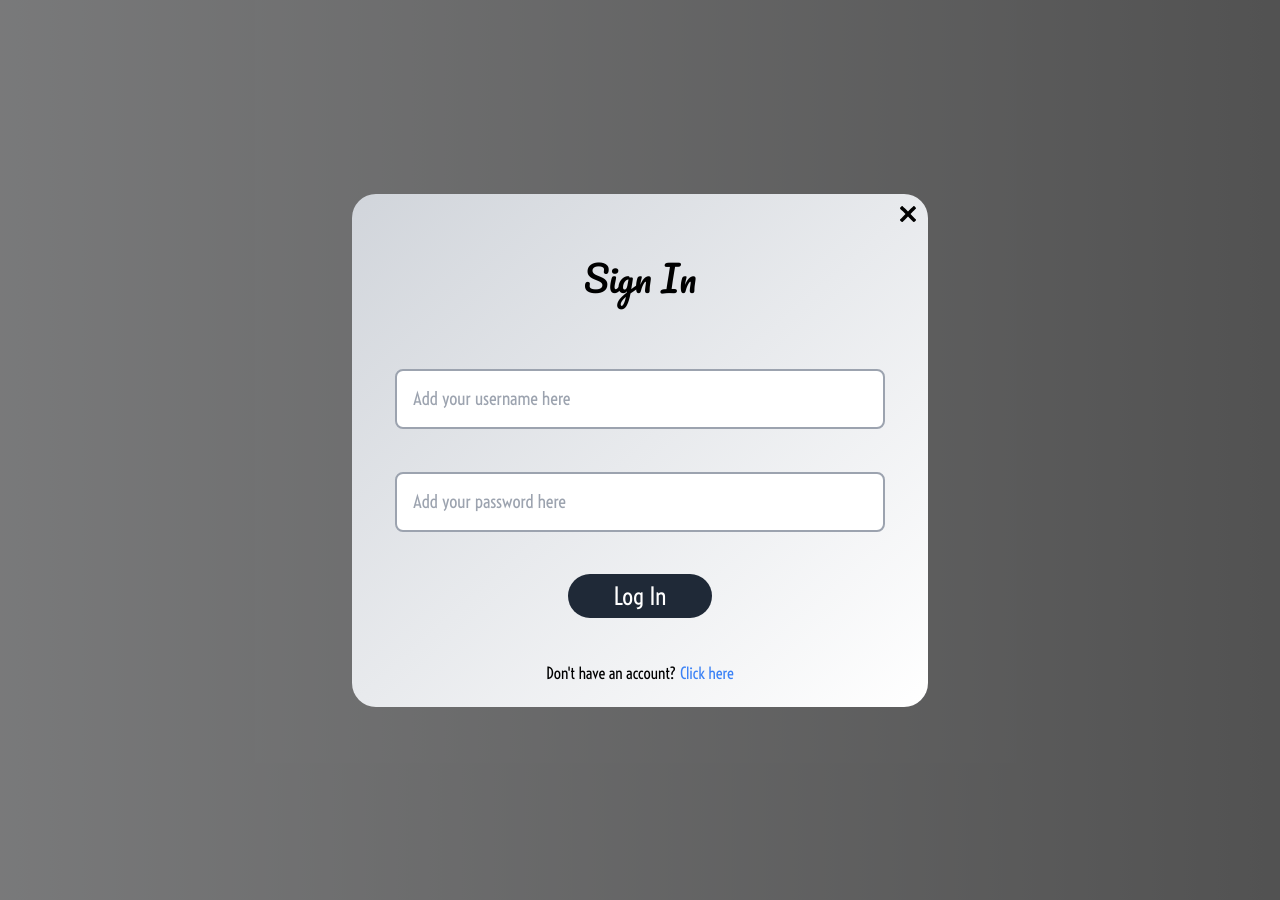
Test: SignIn › should render SignUp component
Click the text with test id "span". click: point(705, 673)
box: [676,663,734,683]
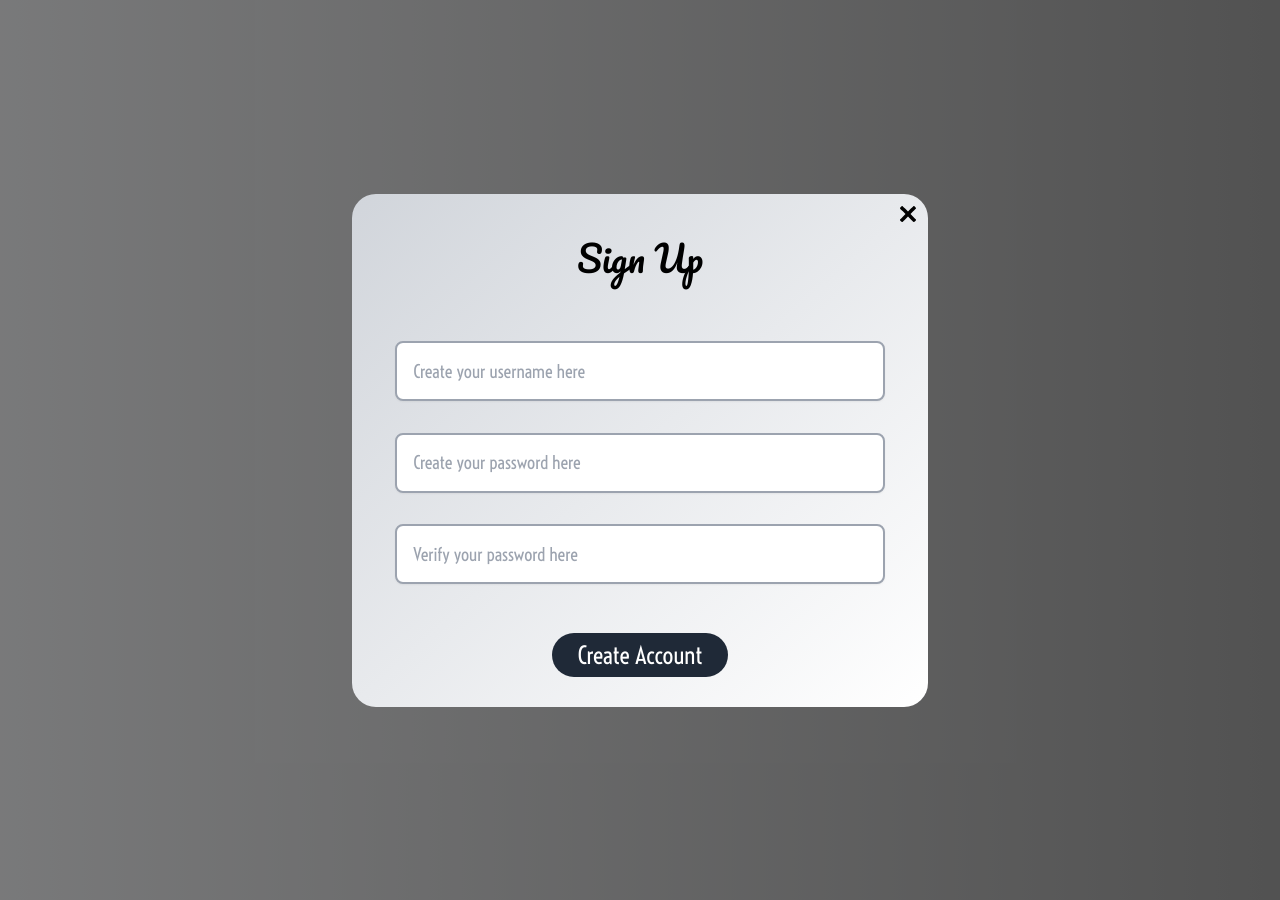
Now the element with test id "signUpDiv" is shown
